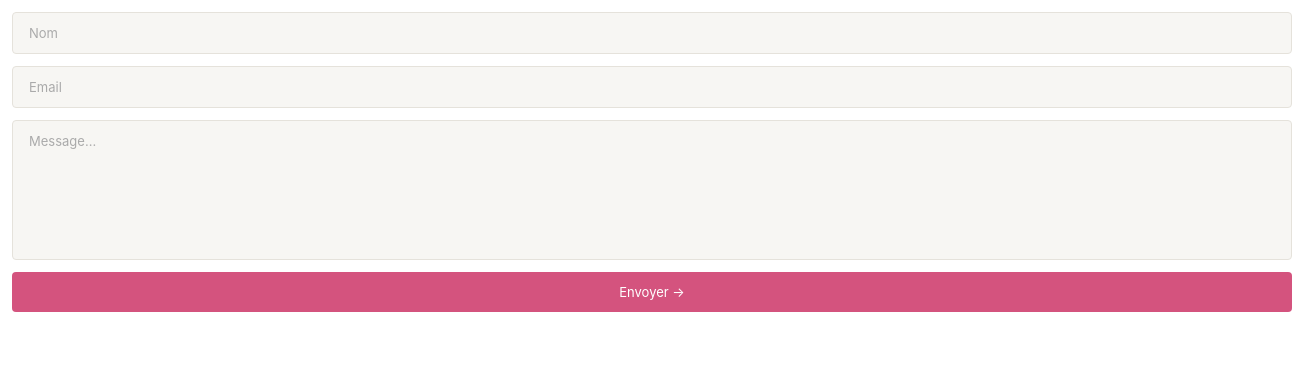
Test: ContactForm › submission feedback › shows network error message on NetworkError
The image size is (1304, 367).
Type "Alice" into the field with placeholder "Nom".
click(652, 33); type("Alice")  # box [12,12,1292,54]
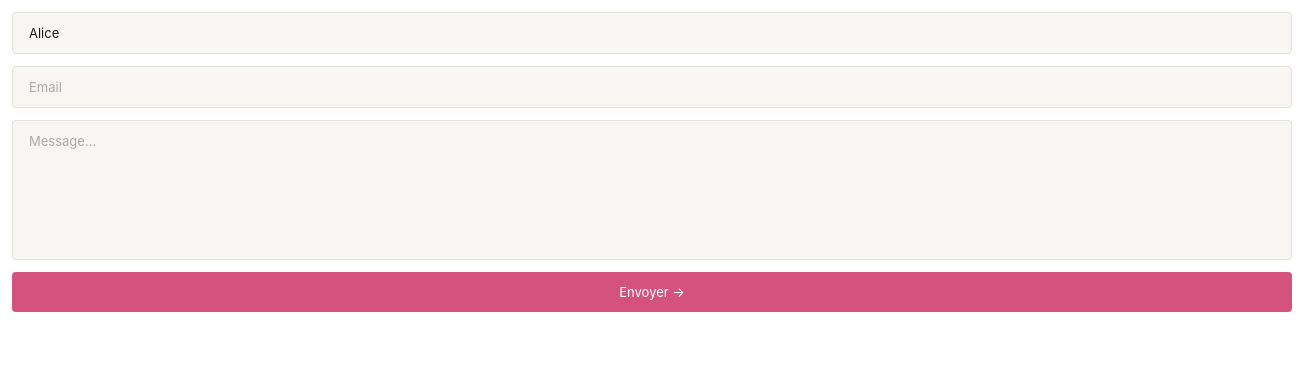
Type "alice@example.com" into the field with placeholder "Email".
click(652, 87); type("alice@example.com")  # box [12,66,1292,108]
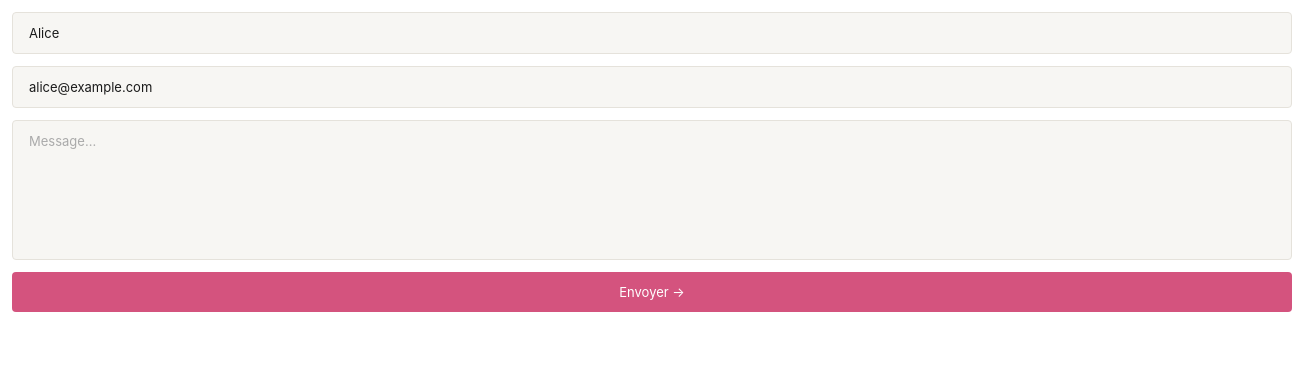
Type "Hello!" into the text box with placeholder "Message...".
click(652, 190); type("Hello!")  # box [12,120,1292,260]
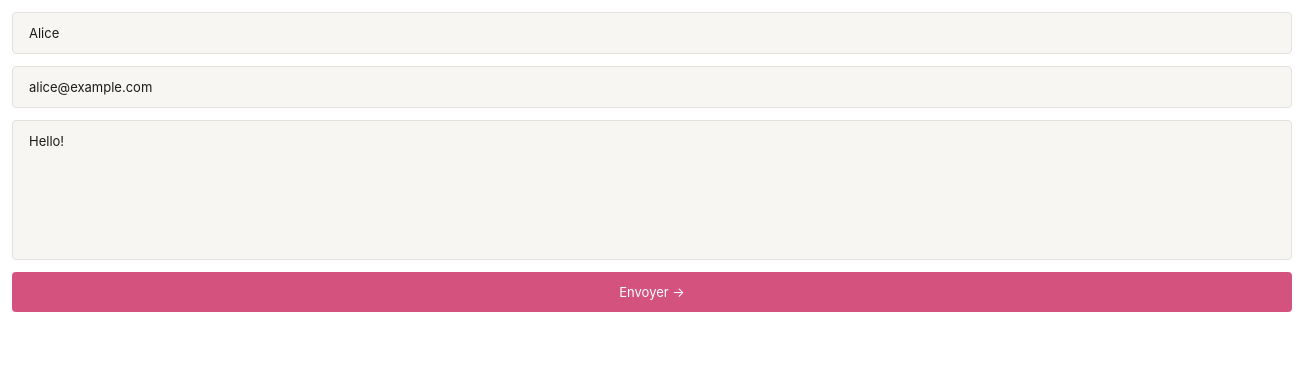
Click the button "Envoyer →".
click(652, 292)  # box [12,272,1292,312]
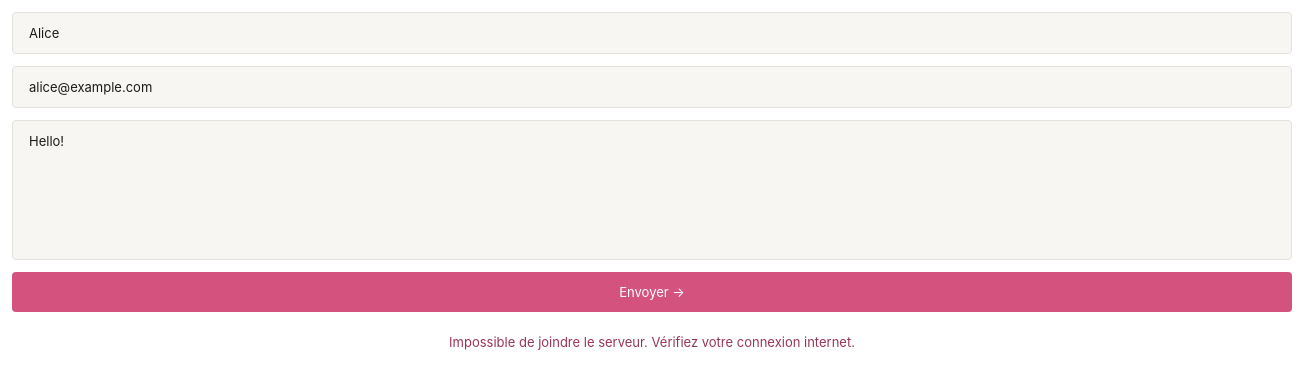
Check: the text "Impossible de joindre le serveur. Vérifiez votre connexion internet." is shown, box [449,334,855,350]
